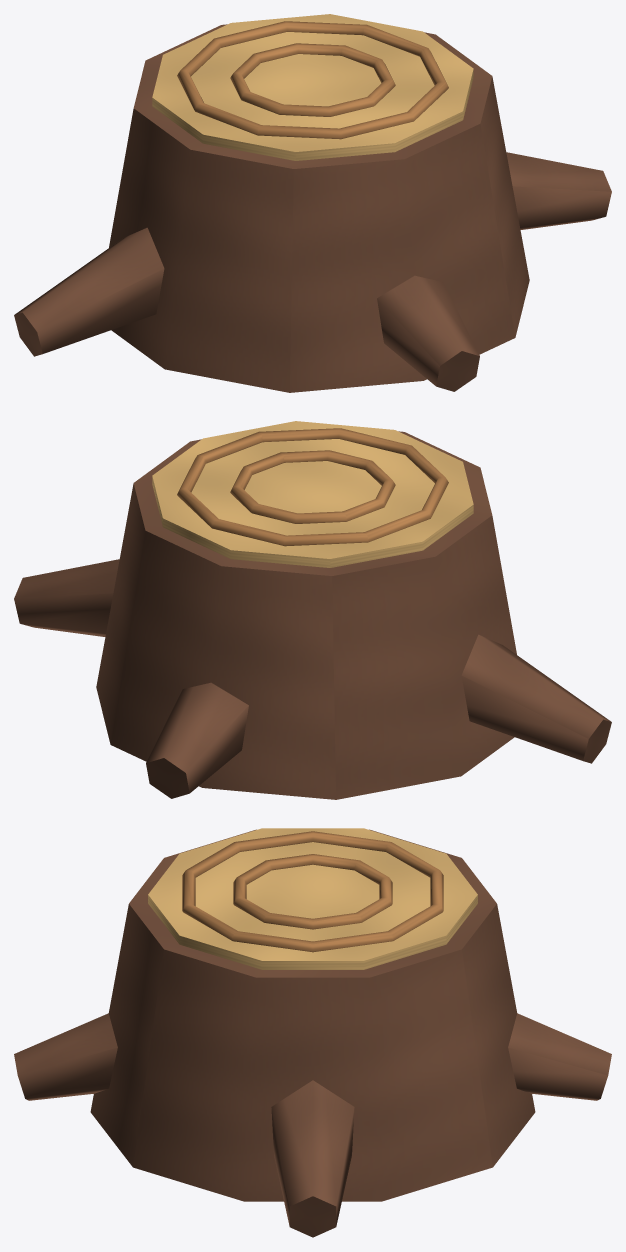
The model's file is tree-stump.glb.
3 renders of one model, top to bottom at view 1: azimuth 30°, elevation 25°; view 2: azimuth 150°, elevation 25°; view 3: azimuth 270°, elevation 25°, orthographic.
Parts seen in each view (by area): view 1: tree-stump-mesh; view 2: tree-stump-mesh; view 3: tree-stump-mesh.
Boxes of the visible parts, x1,y1,x2,y2 form: tree-stump-mesh: (14,14,611,392); tree-stump-mesh: (14,421,611,799); tree-stump-mesh: (14,828,611,1237).
Bounding box in the file's own units: 0.8773 × 0.3228 × 0.7795.
Materials: 1 (1 with a texture image).
